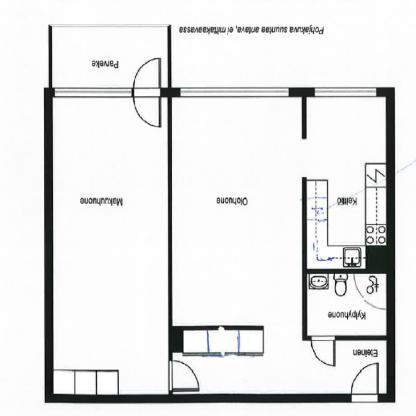door: (132, 57, 163, 131), (350, 362, 379, 404), (168, 360, 202, 392), (310, 336, 338, 368)
window: (180, 88, 288, 99), (55, 88, 132, 97), (315, 88, 376, 98)
zone: (172, 97, 386, 394), (55, 98, 169, 394), (52, 28, 167, 88), (307, 273, 386, 337)
